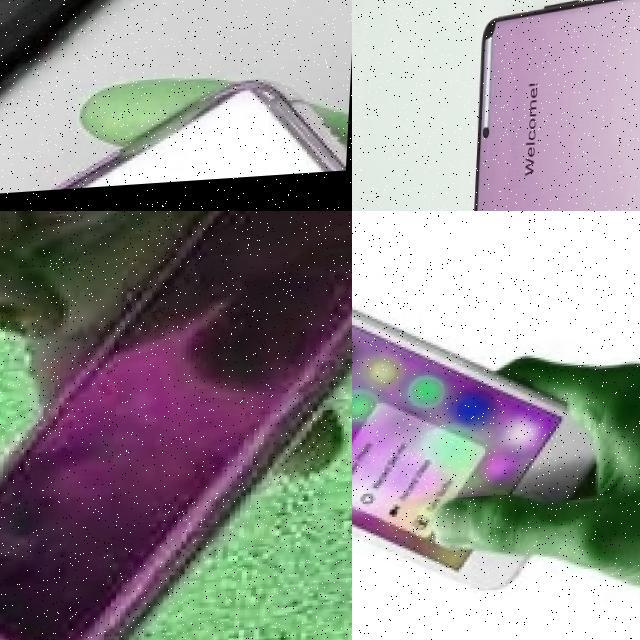dead pixel: (469, 5, 514, 65)
